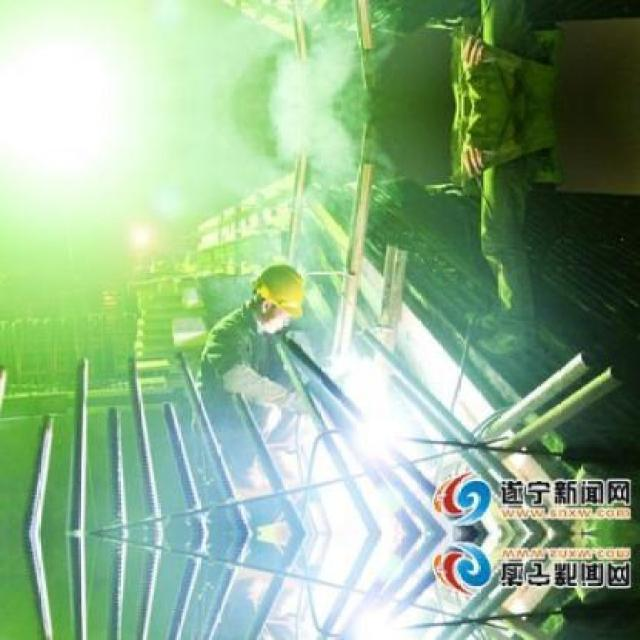gloves: (240, 366, 311, 416)
hard-hat: (252, 265, 304, 319)
person: (454, 0, 562, 347), (200, 263, 308, 453)
ppe-suit: (446, 6, 562, 333), (199, 262, 312, 454)
